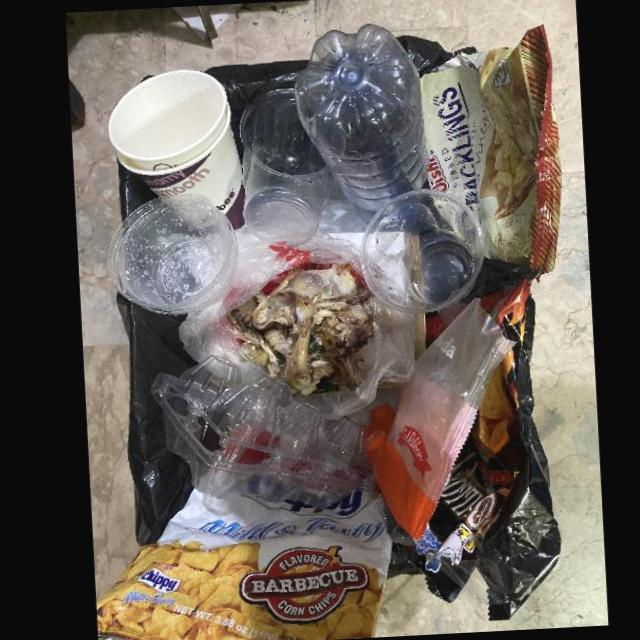bao_bi_thuc_pham: (385, 279, 560, 619), (96, 474, 392, 640), (361, 300, 517, 542), (420, 23, 561, 271)
carton: (108, 68, 246, 227)
chai_nhua_pet: (296, 23, 430, 227)
hop_nhua: (150, 353, 370, 512), (109, 193, 243, 314), (363, 192, 484, 314), (241, 87, 326, 249)
thuc_an_thua: (240, 269, 374, 396)
